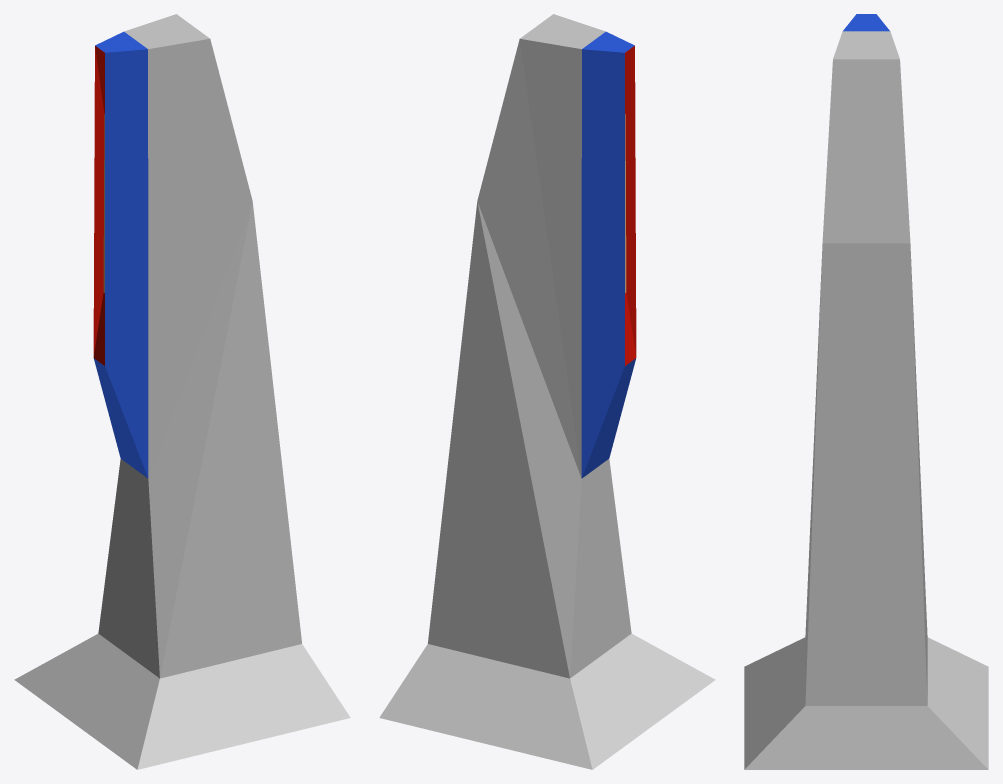
The model's file is build_p.fbx.
3 renders of one model, left to right at view 1: azimuth 30°, elevation 25°; view 2: azimuth 150°, elevation 25°; view 3: azimuth 270°, elevation 25°, orthographic.
Visible parts, largest first — view 1: Cube; view 2: Cube; view 3: Cube.
Part boxes in pixels (box(x1,y1,x2,y2)): Cube: box(14, 14, 350, 769); Cube: box(379, 14, 715, 769); Cube: box(744, 14, 988, 769).
Size of the model in its own units: 600 by 1800 by 600.
